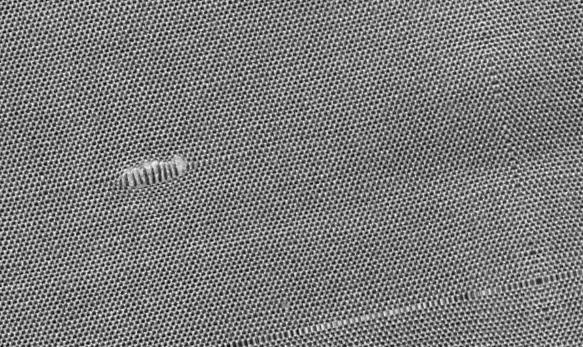slub: (110, 155, 195, 200)
